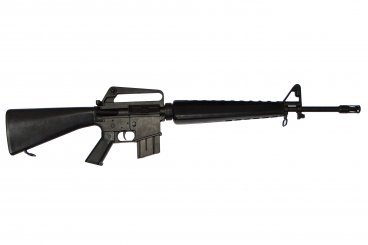Arma Real: (5, 83, 361, 166)
